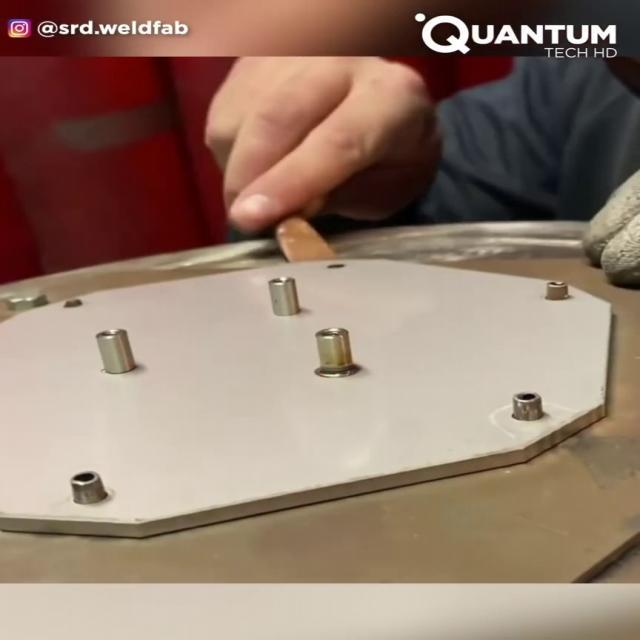Good Weld: (315, 368, 358, 380)
